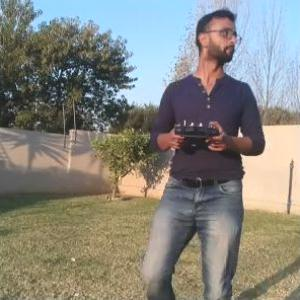follow: (138, 6, 272, 299)
